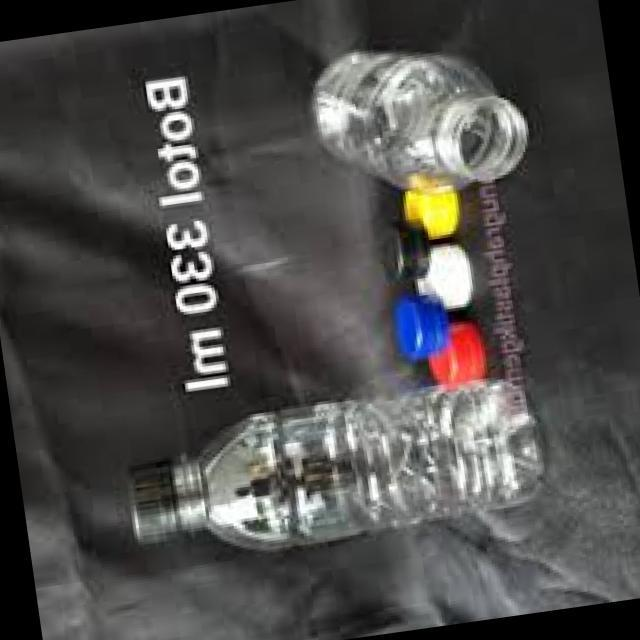good: (109, 356, 568, 612), (294, 0, 542, 231)
